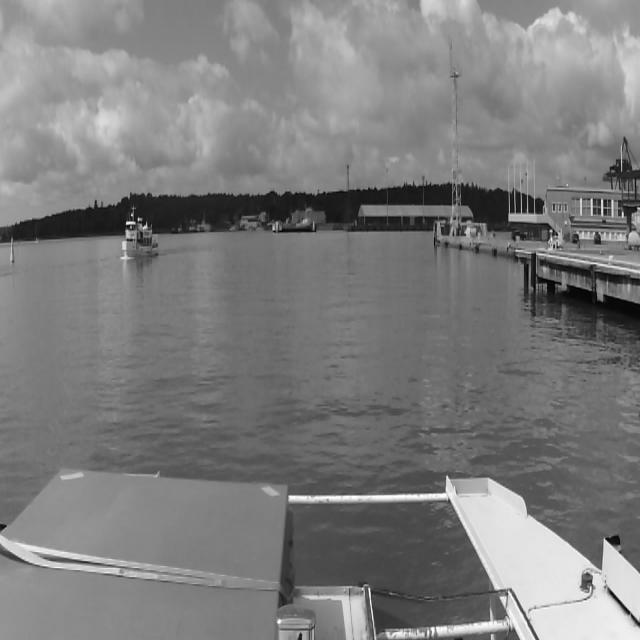buoy: (10, 238, 14, 263)
ship: (122, 221, 158, 255)
